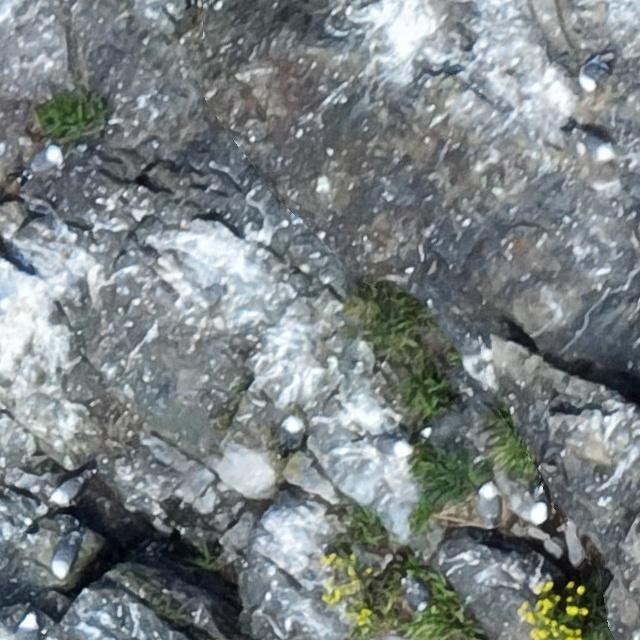umineko: (362, 434, 413, 457), (28, 146, 62, 175), (574, 132, 614, 156), (51, 474, 85, 502), (278, 416, 302, 454), (516, 497, 548, 525), (53, 541, 75, 575), (580, 57, 603, 88), (479, 485, 497, 521)
